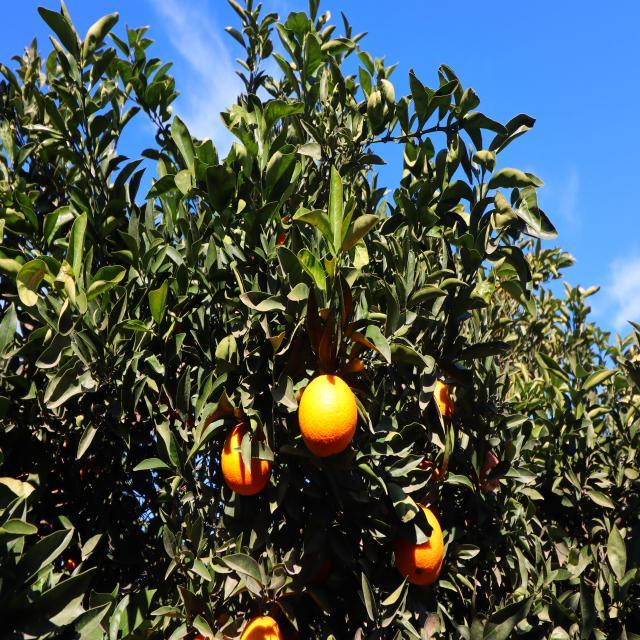Jeruk Sudah Matang: (298, 374, 360, 450), (219, 424, 273, 498), (397, 506, 445, 584), (423, 374, 460, 424), (241, 613, 284, 640)
